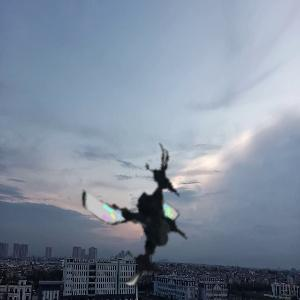drone: (73, 147, 213, 287)
